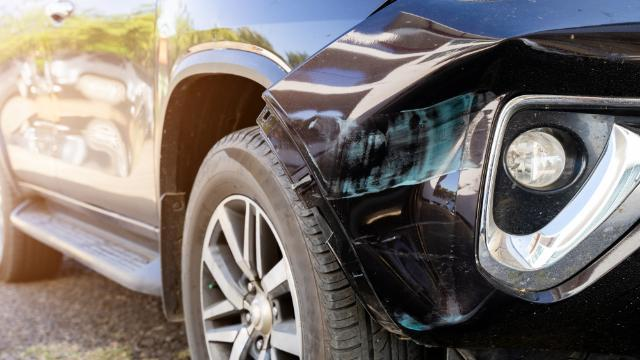dent: (354, 191, 495, 323)
scratch: (309, 89, 496, 199)
